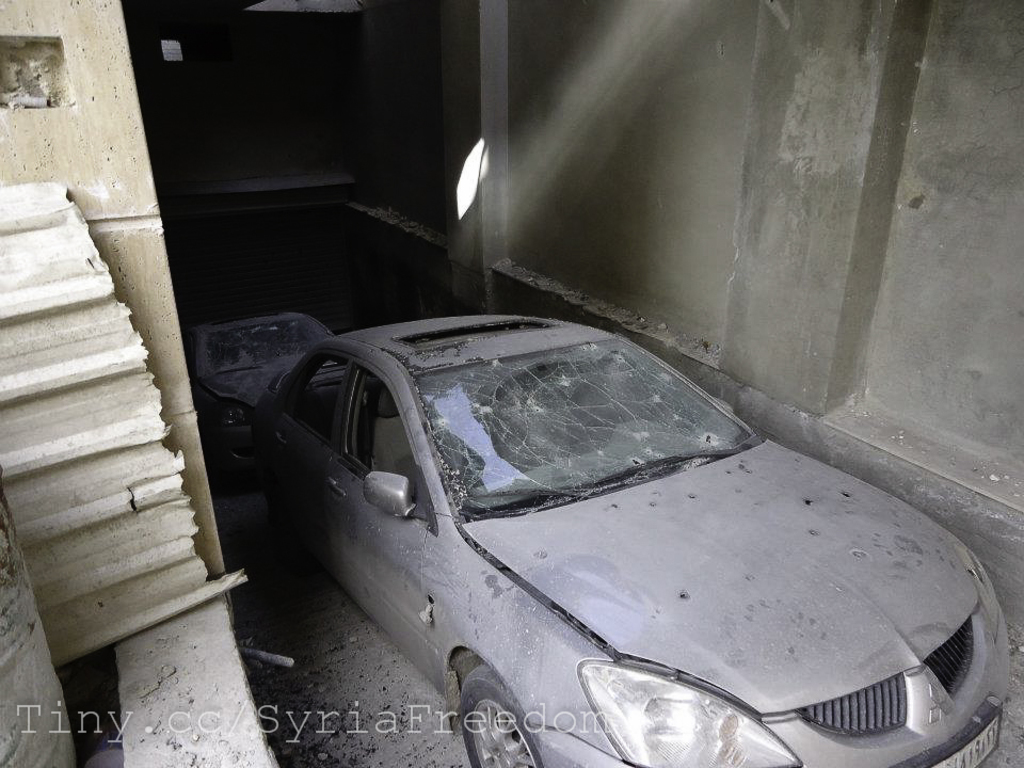mobil: (242, 300, 1010, 765)
